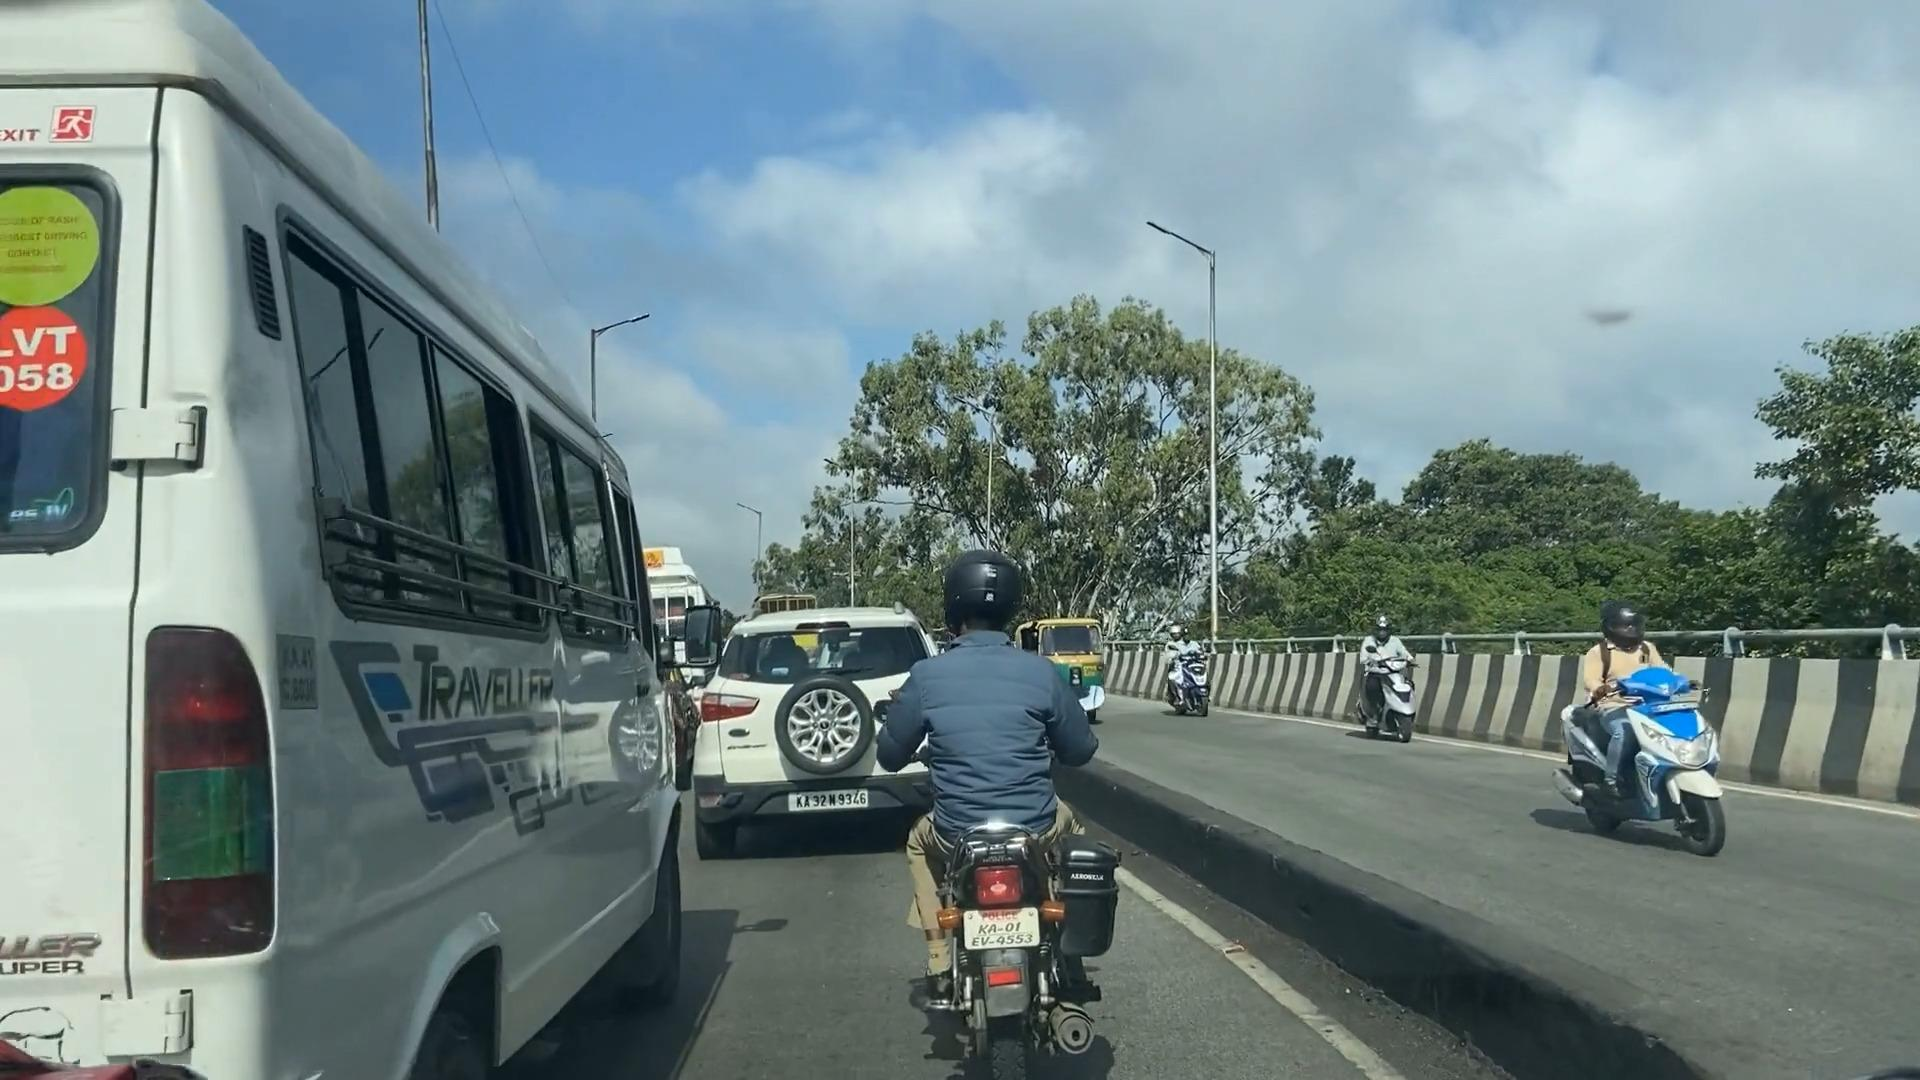HMV: (0, 94, 679, 1080)
LMV: (856, 568, 1121, 1073)
